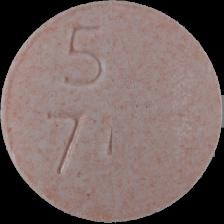0054-0289: (0, 0, 224, 224)
